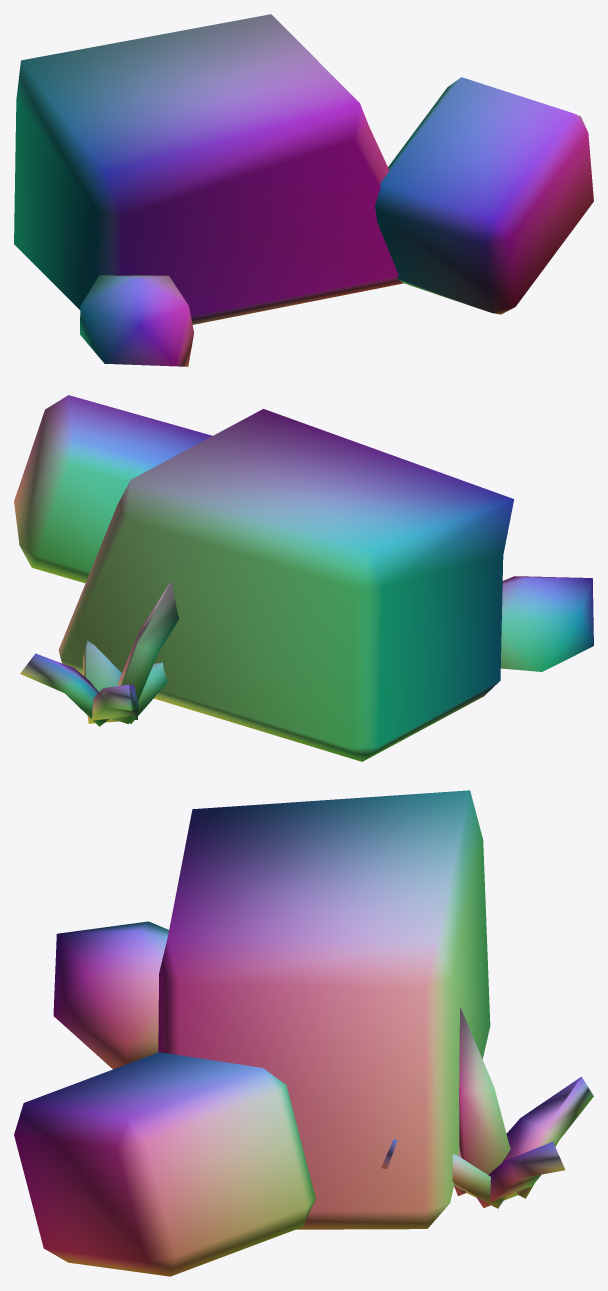
The model's file is SM_Rock_March_BrokenStone_A.fbx.
3 views of the same model, one above another, from view 1: azimuth 30°, elevation 25°; view 2: azimuth 150°, elevation 25°; view 3: azimuth 270°, elevation 25° (orthographic). The views are drawn at different scales.
Parts seen in each view (by area): view 1: SM_Rock_March_BrokenStone_A; view 2: SM_Rock_March_BrokenStone_A; view 3: SM_Rock_March_BrokenStone_A.
Part boxes in pixels (left/top/right/bottom): SM_Rock_March_BrokenStone_A: left=14, top=14, right=593, bottom=366; SM_Rock_March_BrokenStone_A: left=14, top=395, right=593, bottom=761; SM_Rock_March_BrokenStone_A: left=14, top=790, right=593, bottom=1276.
Bounding box in the file's own units: 0.8298 × 0.3318 × 0.6368.
